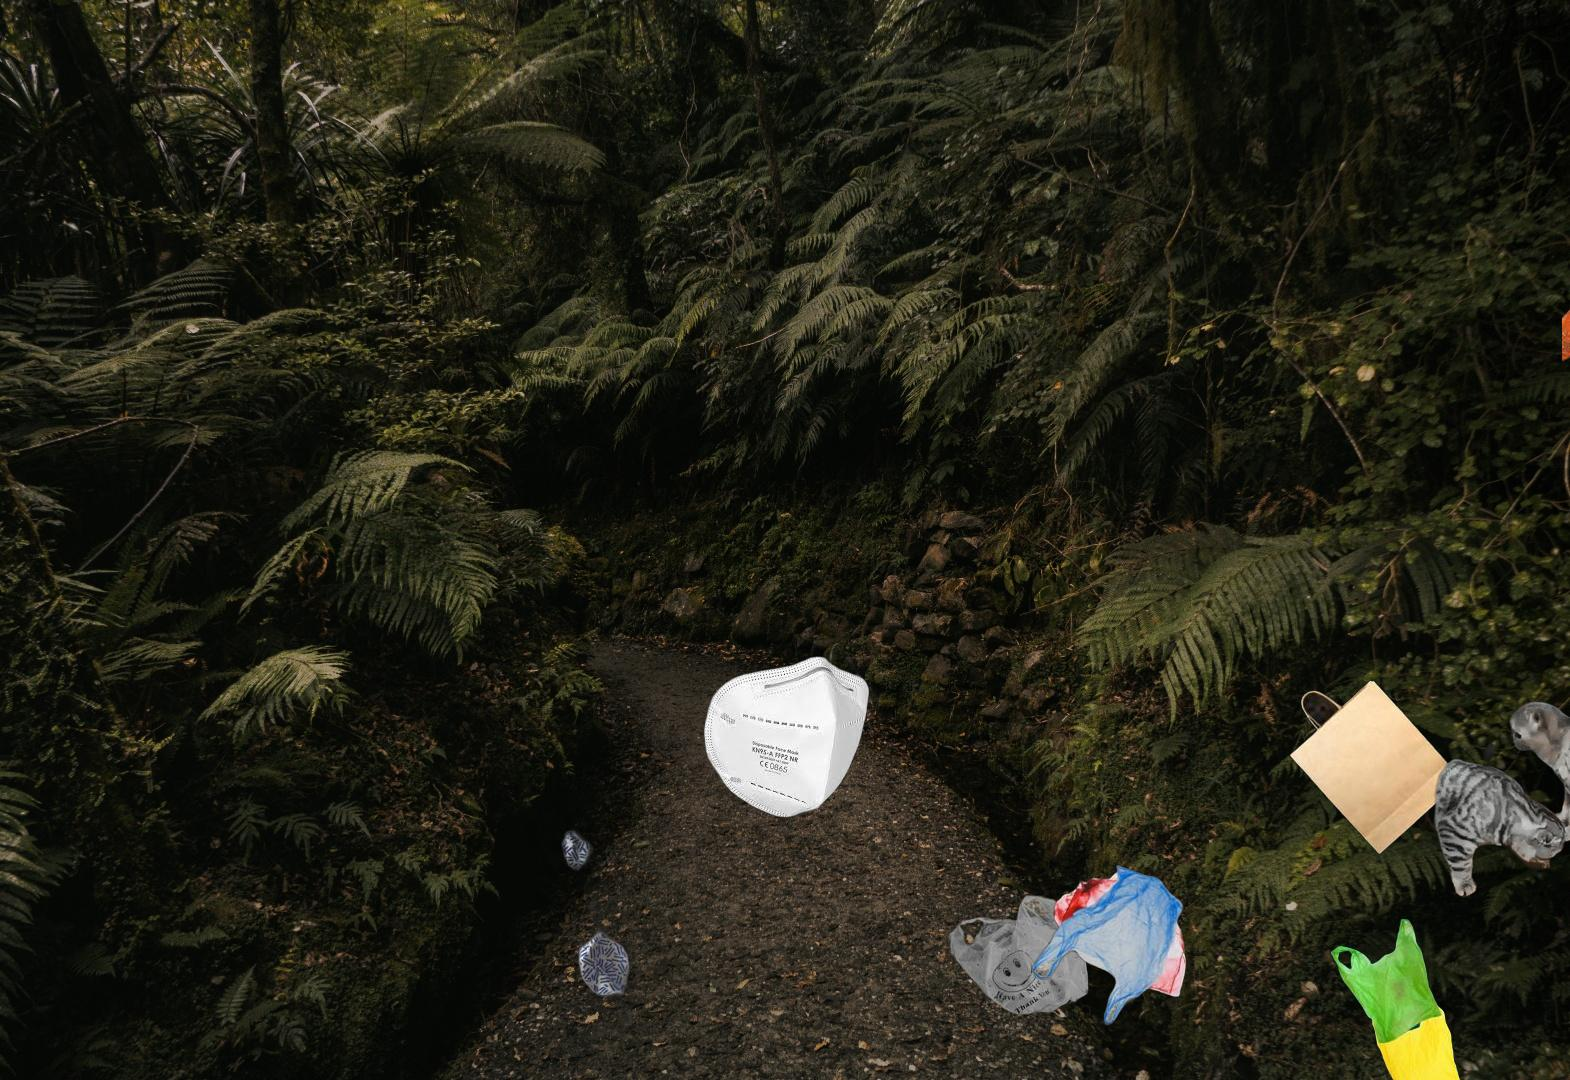biological: (1562, 265, 1570, 422)
paper: (558, 800, 638, 1051)
paper-bag: (1287, 677, 1463, 880)
plastic-bag: (1030, 862, 1188, 1027), (1329, 917, 1467, 1080), (945, 891, 1090, 1018)
trash: (648, 625, 872, 820)
trashbox-cardboard: (1430, 699, 1570, 900)
